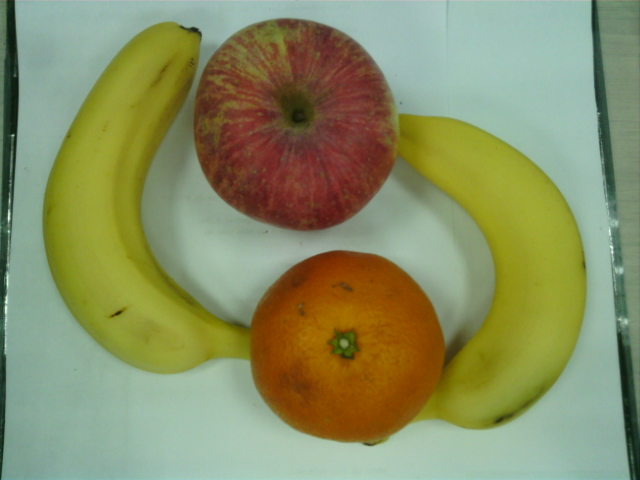normal_apple: (195, 19, 397, 232)
normal_banana: (43, 21, 250, 370), (397, 112, 588, 430)
normal_orange: (253, 249, 444, 443)
